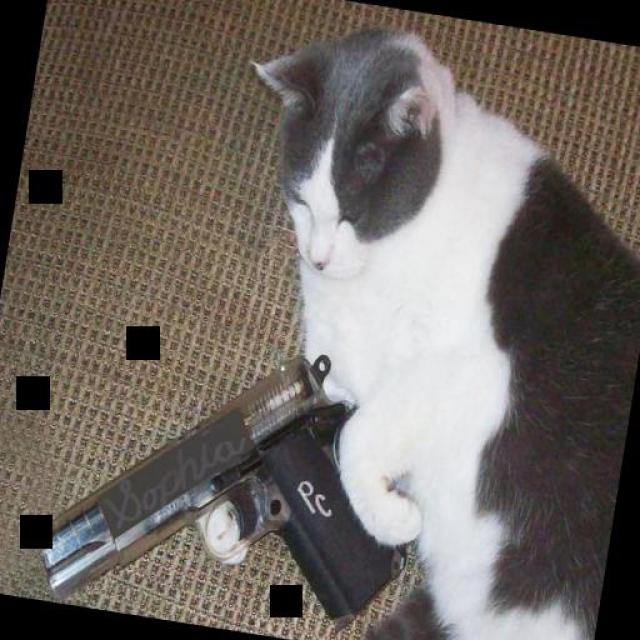gun: (25, 294, 437, 640)
